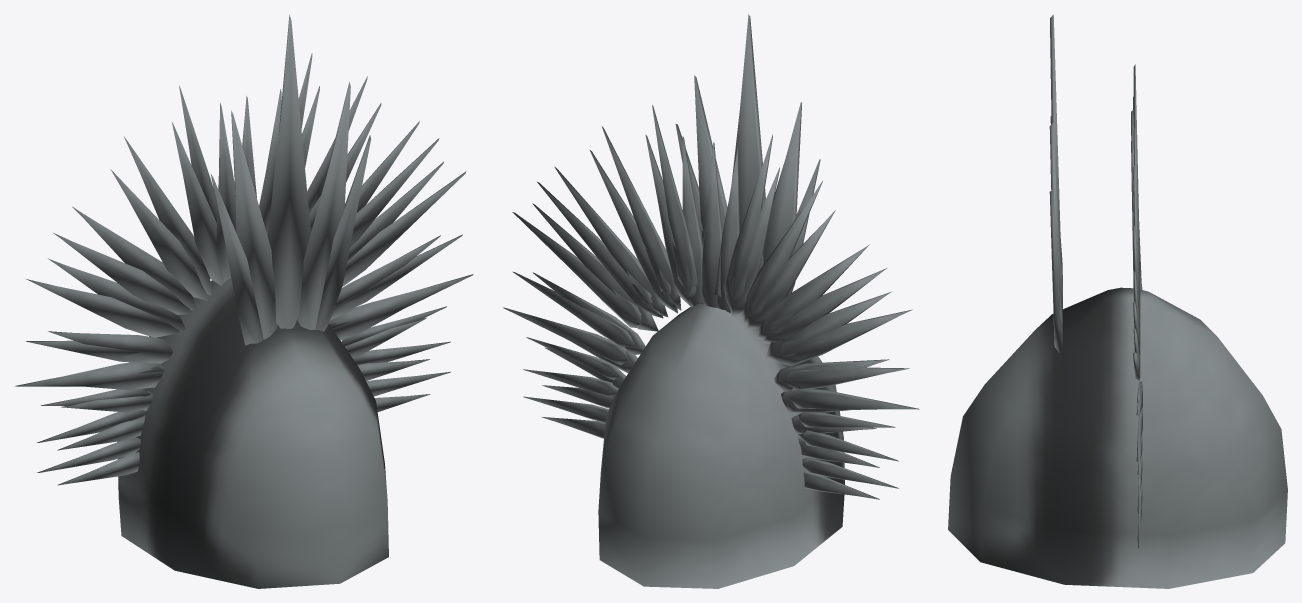
The model's file is inca_h_1.dae.
3 renders of one model, left to right at view 1: azimuth 30°, elevation 25°; view 2: azimuth 150°, elevation 25°; view 3: azimuth 270°, elevation 25°, orthographic. The views are drawn at different scales.
Visible parts, largest first — view 1: inca_e_1.001; view 2: inca_e_1.001; view 3: inca_e_1.001.
Boxes of the visible parts, x1,y1,x2,y2 form: inca_e_1.001: (15,14,473,588); inca_e_1.001: (503,14,919,588); inca_e_1.001: (948,14,1287,588).
Size of the model in its own units: 0.9246 by 0.6061 by 1.04.
